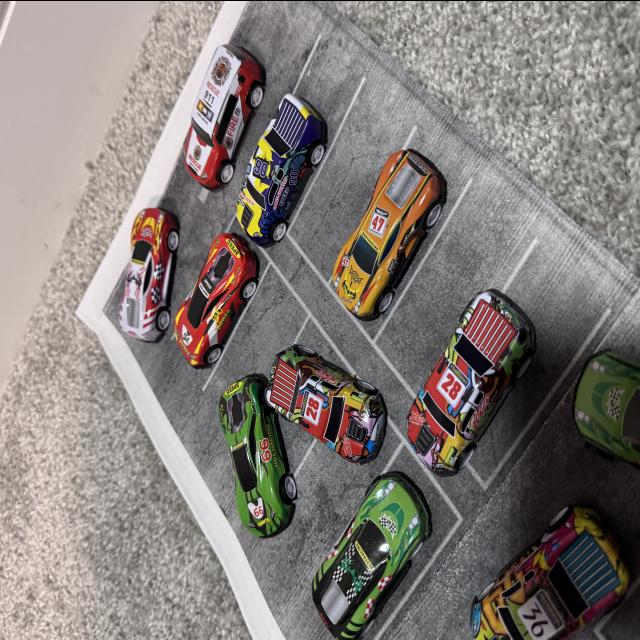Car: (371, 268, 575, 512), (318, 436, 470, 640), (458, 486, 640, 640), (208, 66, 332, 255), (163, 222, 297, 384), (312, 154, 430, 306), (556, 288, 640, 498), (208, 382, 302, 558), (98, 196, 180, 365), (168, 34, 256, 172), (261, 362, 375, 463)
